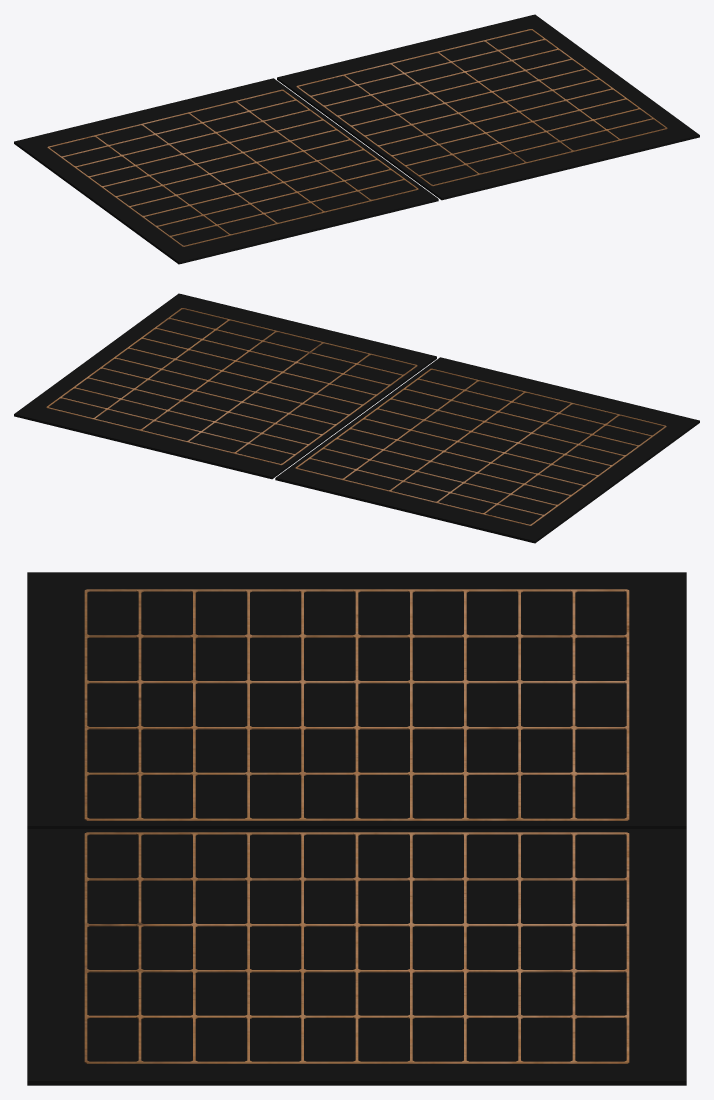
Rendered from board1.fbx.
3 views of the same model, one above another, from view 1: azimuth 30°, elevation 25°; view 2: azimuth 150°, elevation 25°; view 3: azimuth 270°, elevation 25° (orthographic). The views are drawn at different scales.
Visible parts, largest first — view 1: Cube.001, Cube.002; view 2: Cube.001, Cube.002; view 3: Cube.001, Cube.002.
Boxes of the visible parts, x1=… form: Cube.001: x1=14, y1=78, x2=438, y2=264; Cube.002: x1=277, y1=14, x2=699, y2=200; Cube.001: x1=275, y1=357, x2=699, y2=543; Cube.002: x1=14, y1=293, x2=436, y2=479; Cube.001: x1=27, y1=572, x2=686, y2=828; Cube.002: x1=27, y1=829, x2=686, y2=1085.
Size of the model in its own units: 444 by 2.33 by 243.
